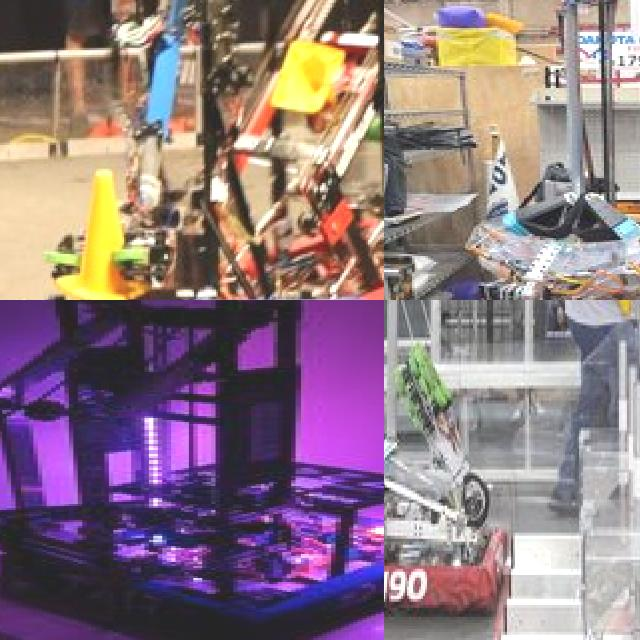FRC-Robots: (0, 300, 384, 640), (0, 0, 348, 300), (394, 0, 640, 300), (384, 300, 510, 622), (261, 0, 384, 300)
